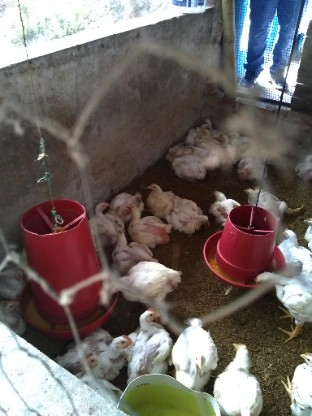Pollos: (54, 322, 136, 383), (253, 265, 312, 339), (215, 332, 260, 416), (103, 261, 182, 306), (170, 308, 216, 385), (126, 307, 168, 374), (241, 180, 306, 220), (164, 196, 213, 238), (287, 343, 312, 412), (129, 204, 170, 246), (268, 218, 305, 262), (0, 294, 33, 338), (111, 228, 151, 264), (0, 259, 41, 293), (82, 353, 111, 393), (208, 189, 240, 224), (145, 179, 172, 215), (174, 157, 211, 180), (160, 139, 187, 167), (239, 157, 267, 181), (92, 201, 109, 238), (108, 190, 145, 205), (295, 151, 312, 180), (218, 133, 233, 158), (302, 212, 312, 249), (117, 197, 132, 218), (198, 122, 213, 131), (200, 129, 212, 135), (231, 130, 240, 138), (203, 115, 210, 123), (242, 135, 245, 142)
